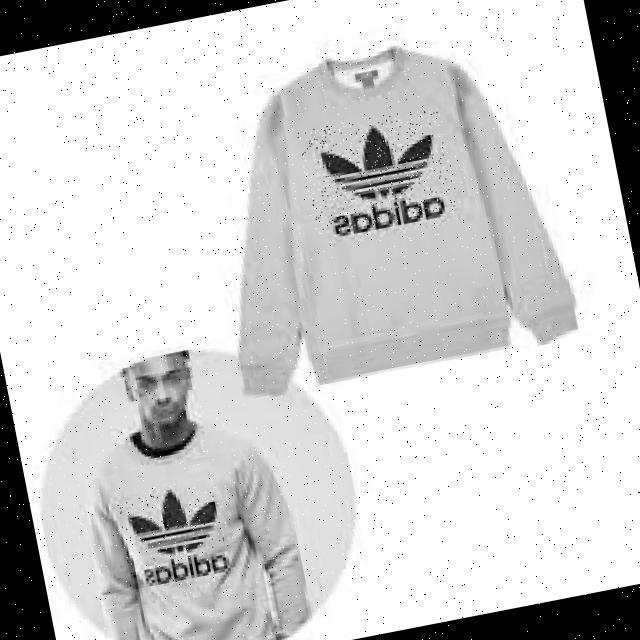Adidas: (297, 104, 459, 235), (116, 480, 232, 565)
